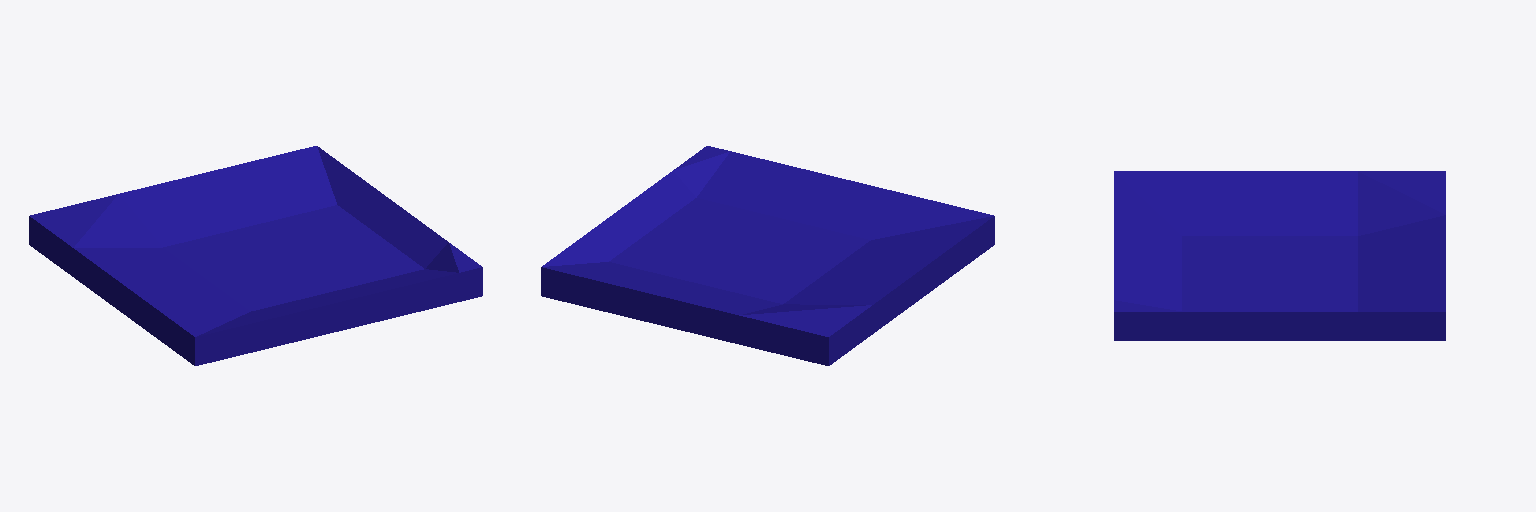
Rendered from ground2.obj.
3 renders of one model, left to right at view 1: azimuth 30°, elevation 25°; view 2: azimuth 150°, elevation 25°; view 3: azimuth 270°, elevation 25°, orthographic.
Visible parts, largest first — view 1: Cube; view 2: Cube; view 3: Cube.
Part boxes in pixels (bbox=[...]): Cube: bbox=[29, 146, 482, 365]; Cube: bbox=[541, 146, 994, 365]; Cube: bbox=[1114, 171, 1445, 340].
Size of the model in its own units: 18.62 by 1.8 by 18.62.